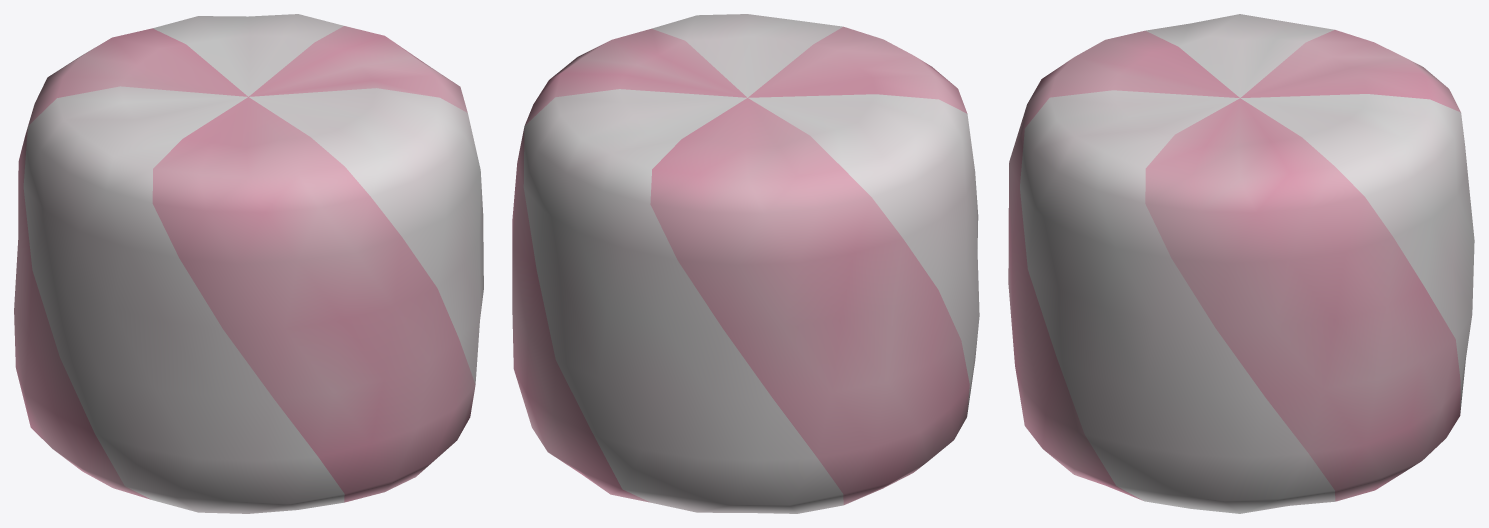
The model's file is marshmallow.glb.
The picture shows the model from 3 angles, left to right: view 1: azimuth 30°, elevation 25°; view 2: azimuth 150°, elevation 25°; view 3: azimuth 270°, elevation 25°; orthographic projection.
Parts seen in each view (by area): view 1: marshmallow; view 2: marshmallow; view 3: marshmallow.
Boxes of the visible parts, <box> form: marshmallow: <box>14,14,483,513</box>; marshmallow: <box>512,14,979,513</box>; marshmallow: <box>1008,14,1474,513</box>.
Bounding box in the file's own units: 1 × 0.8326 × 0.9998.
